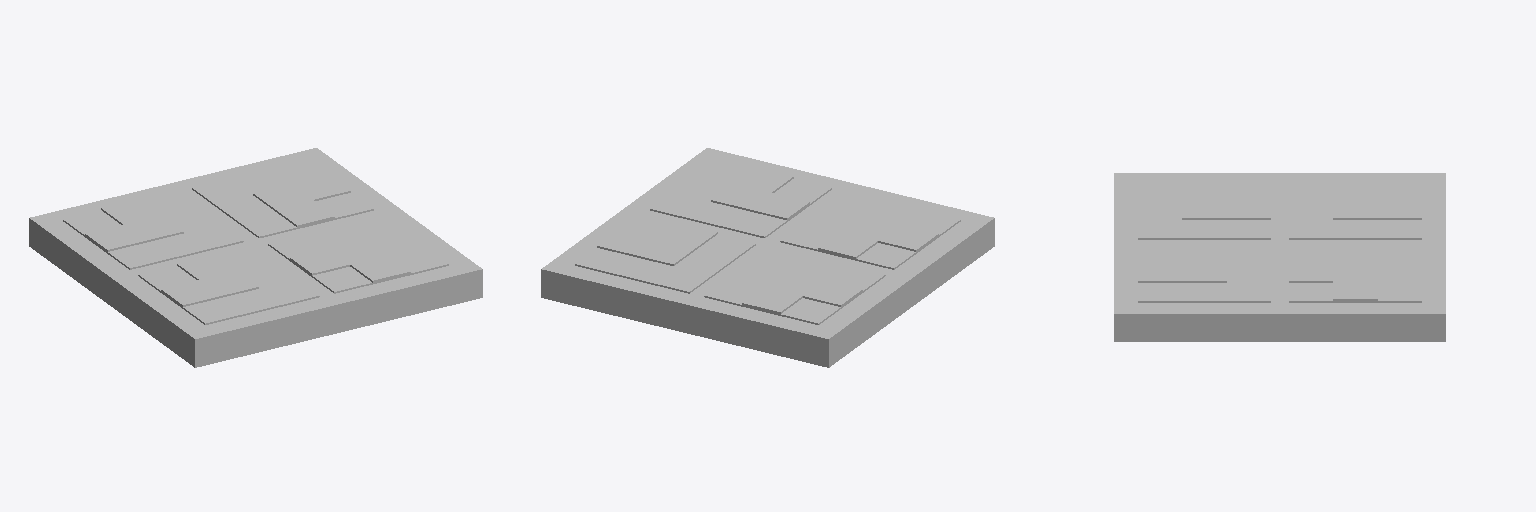
Rendered from OneDoor_high.obj.
The picture shows the model from 3 angles: view 1: azimuth 30°, elevation 25°; view 2: azimuth 150°, elevation 25°; view 3: azimuth 270°, elevation 25°; orthographic projection.
Visible parts, largest first — view 1: Door_High_Cube.005; view 2: Door_High_Cube.005; view 3: Door_High_Cube.005.
Part boxes in pixels (left/top/right/bottom): Door_High_Cube.005: left=29, top=148, right=482, bottom=367; Door_High_Cube.005: left=541, top=148, right=994, bottom=367; Door_High_Cube.005: left=1114, top=173, right=1445, bottom=341.
Bounding box in the file's own units: 0.42 × 0.0451 × 0.42.